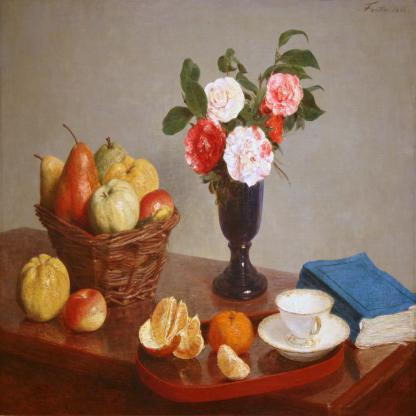vase: (212, 176, 268, 300)
